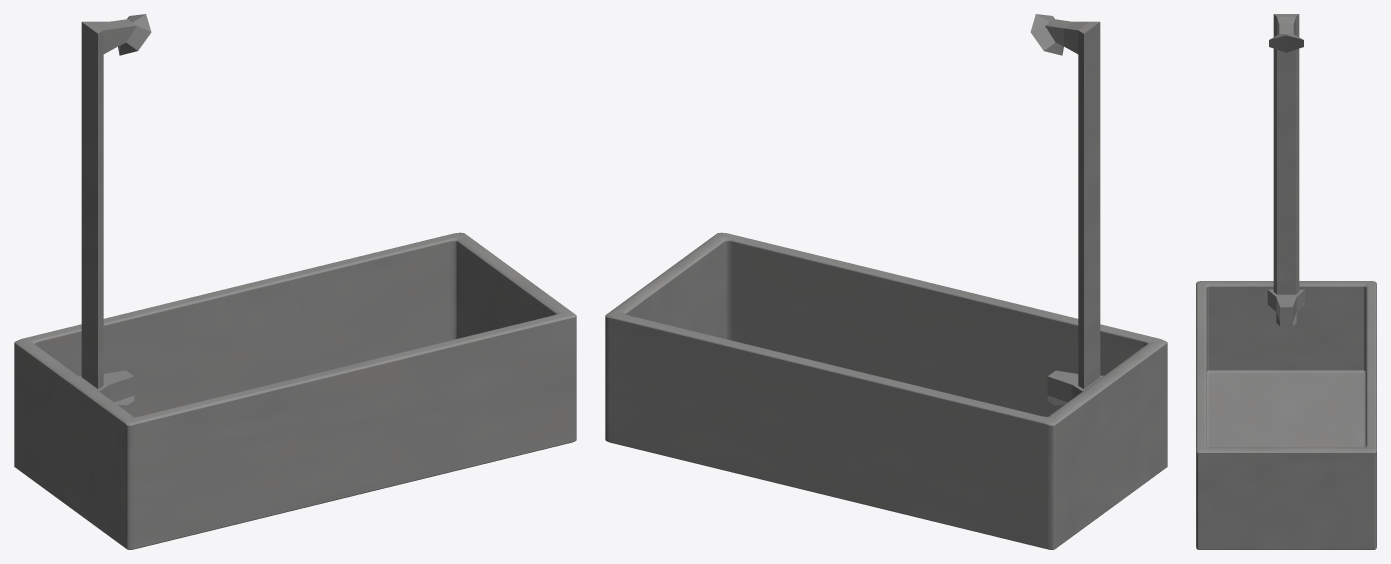
File: Bathtub.glb
3 views of the same model, side by side, from view 1: azimuth 30°, elevation 25°; view 2: azimuth 150°, elevation 25°; view 3: azimuth 270°, elevation 25° (orthographic). The views are drawn at different scales.
Parts seen in each view (by area): view 1: Bathtub_Baked; view 2: Bathtub_Baked; view 3: Bathtub_Baked.
Part boxes in pixels (x1=…): Bathtub_Baked: x1=14, y1=14, x2=576, y2=549; Bathtub_Baked: x1=605, y1=14, x2=1167, y2=549; Bathtub_Baked: x1=1196, y1=14, x2=1376, y2=549.
Bounding box in the file's own units: 9.56 × 9.69 × 4.25.
Materials: 1 (1 with a texture image).
